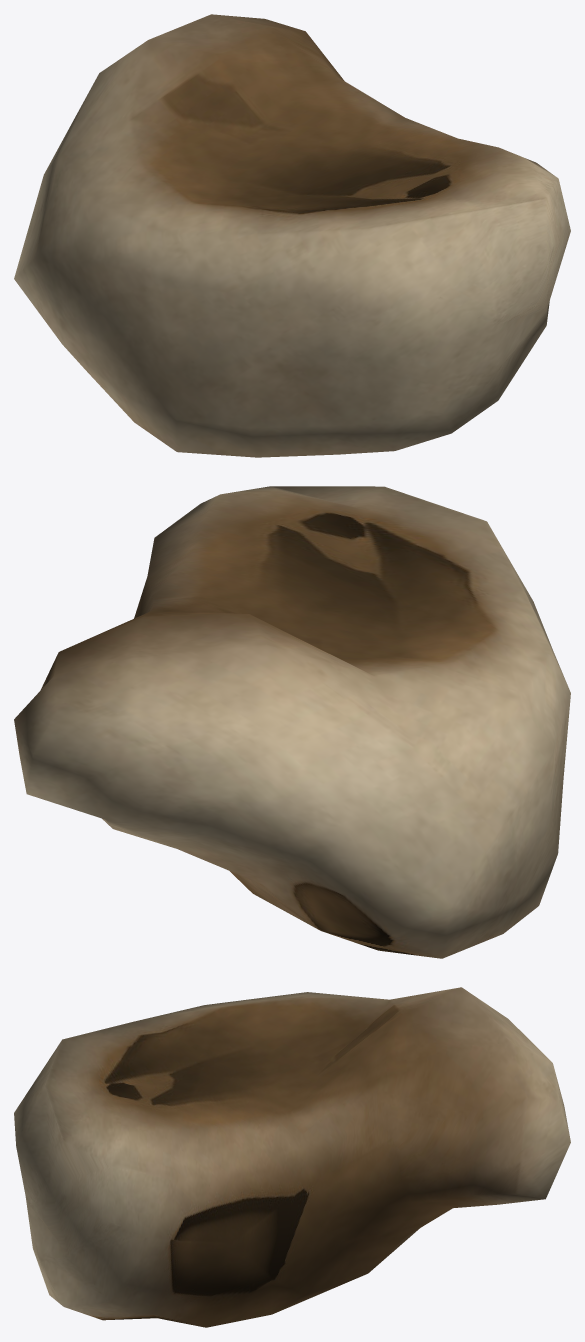
File: Central_Tarsal.glb
3 views of the same model, one above another, from view 1: azimuth 30°, elevation 25°; view 2: azimuth 150°, elevation 25°; view 3: azimuth 270°, elevation 25° (orthographic). The views are drawn at different scales.
Parts seen in each view (by area): view 1: Central_Tarsal_Left1:Group28054; view 2: Central_Tarsal_Left1:Group28054; view 3: Central_Tarsal_Left1:Group28054.
Boxes of the visible parts, x1,y1,x2,y2 form: Central_Tarsal_Left1:Group28054: (14,14,570,457); Central_Tarsal_Left1:Group28054: (14,486,570,958); Central_Tarsal_Left1:Group28054: (14,987,570,1327).
Bounding box in the file's own units: 13.75 × 9.57 × 16.26.
1 material, 1 textured.
